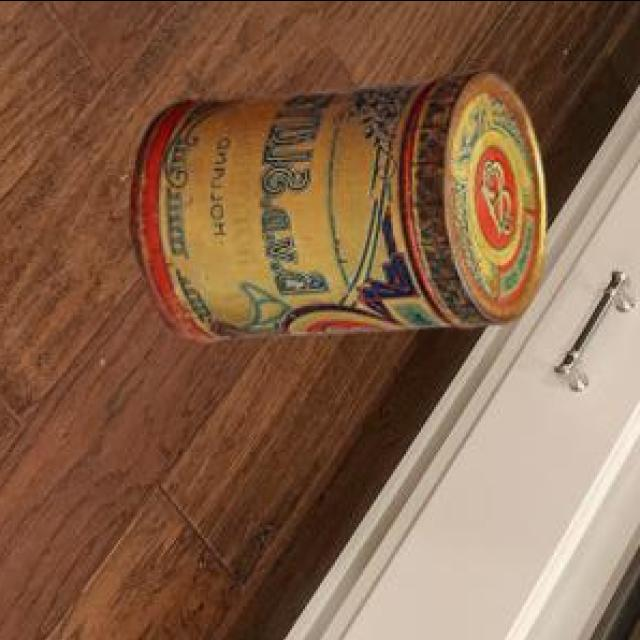logam: (134, 74, 549, 345)
